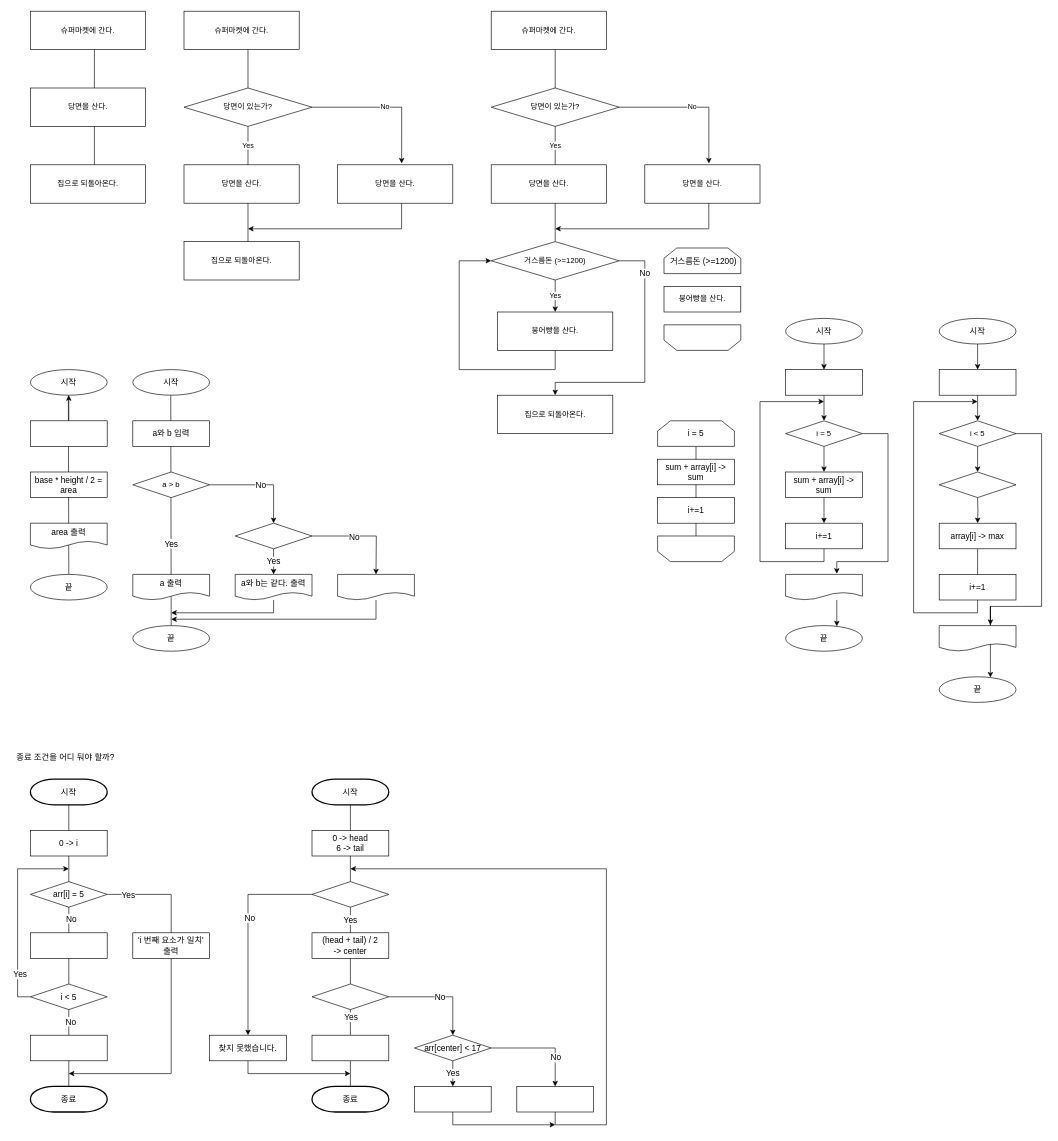
Image size: 1058x1141. Some labels were removed from this diagram. Here are the shapes that lost their labels. From the top down, the centre of each, then its label:
(x=823, y=382): 0->sum, 0->i
(x=977, y=382): array[0] -> max 1 -> i
(x=68, y=433): base와 height 입력
(x=977, y=484): array[i] > max
(x=273, y=536): a = b
(x=375, y=587): b 출력
(x=823, y=587): sum 출력
(x=977, y=638): max 출력
(x=350, y=894): head <= tail
(x=68, y=945): i + 1 -> i (i += 1)
(x=350, y=996): arr[center] = 17
(x=68, y=1048): '찾지 못했습니다.' 출력
(x=350, y=1048): center번째 요소와 일치
(x=452, y=1099): (center + 1) -> head
(x=555, y=1099): (center - 1) -> tail
